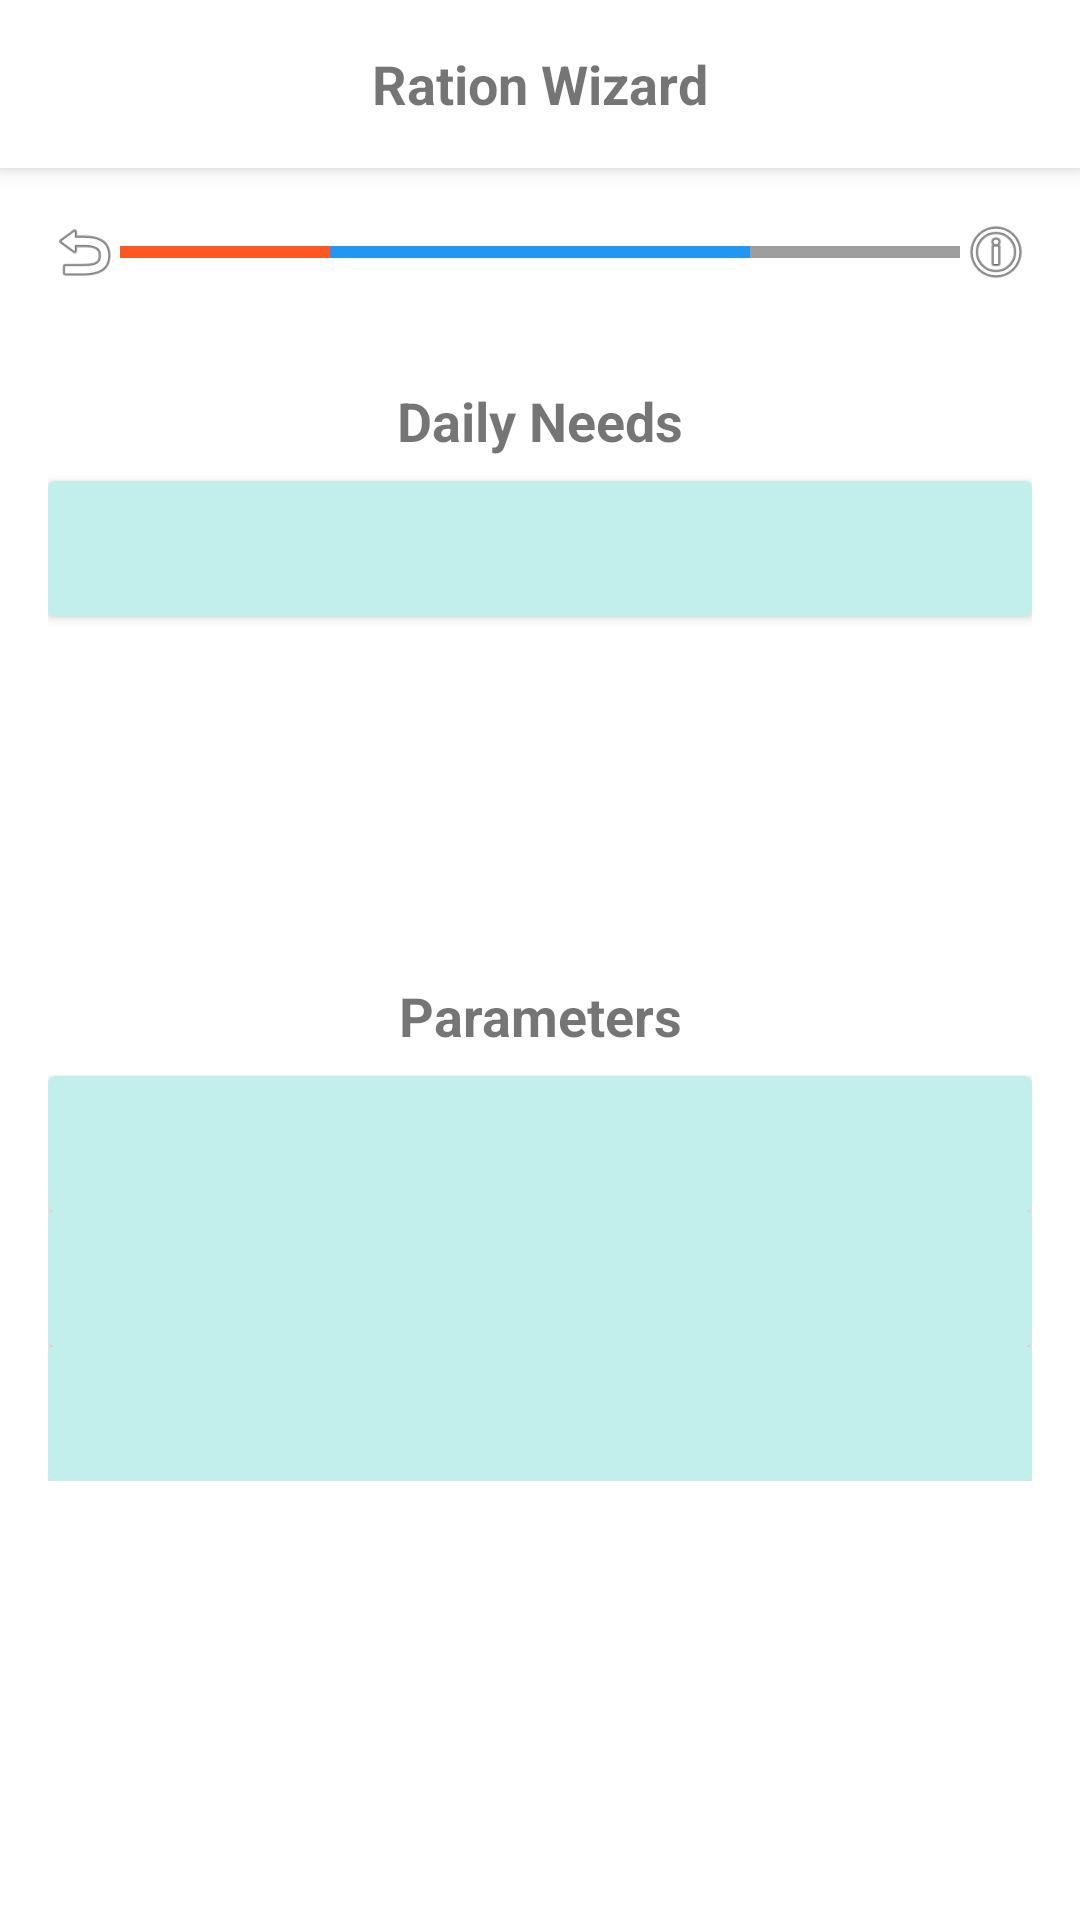

Icons on this 1080w x 1920h Android screen, each with its box as (x1, y1, x2, y2):
info details: (970, 226, 1022, 278)
revert: (59, 229, 111, 276)
